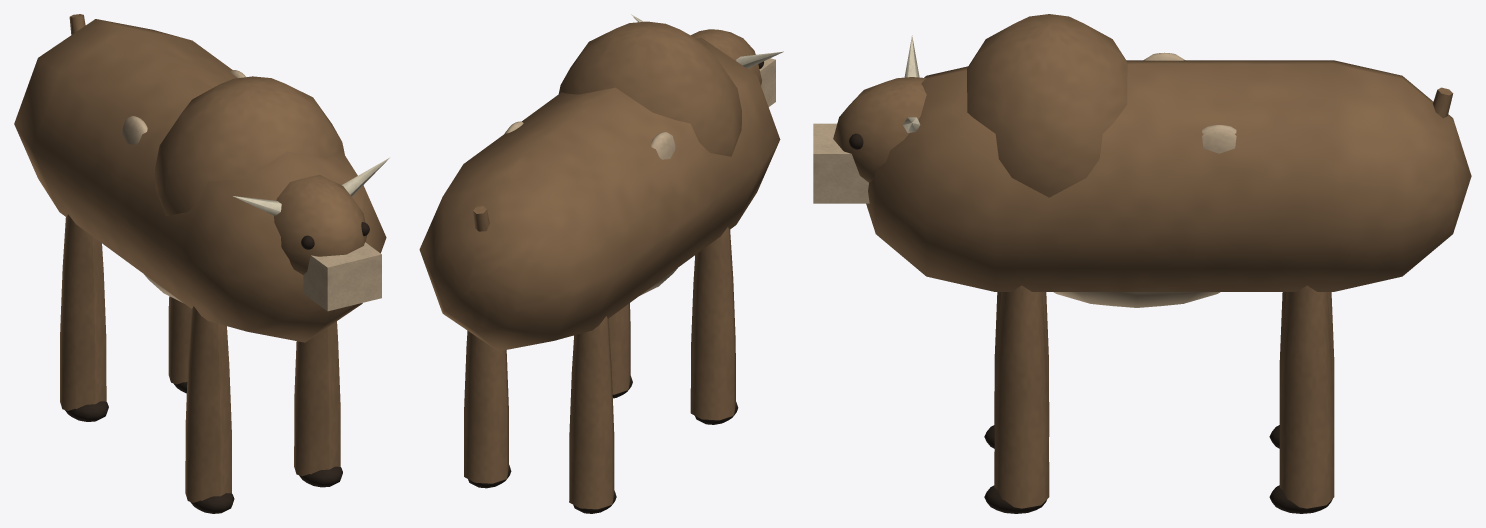
File: enemy_ox.glb
The picture shows the model from 3 angles, left to right: view 1: azimuth 30°, elevation 25°; view 2: azimuth 150°, elevation 25°; view 3: azimuth 270°, elevation 25°; orthographic projection. The views are drawn at different scales.
Parts seen in each view (by area): view 1: object 6, head, legL, armR, legR, armL; view 2: object 6, armR, legL, armL, head, legR; view 3: object 6, armL, legR, head, armR, legL.
Part boxes in pixels (x1,y1,x2,y2): object 6: (14,14,386,342); head: (233,157,389,311); legL: (185,306,234,513); armR: (60,214,108,421); legR: (294,321,342,487); armL: (168,296,191,393); object 6: (419,21,780,351); armR: (569,316,616,513); legL: (690,227,738,424); armL: (464,330,511,488); head: (631,14,783,106); legR: (608,303,632,398); object 6: (866,14,1471,307); armL: (1269,285,1334,513); legR: (984,285,1049,513); head: (813,35,926,203); armR: (1269,292,1334,448); legL: (984,292,1049,448).
Bounding box in the file's own units: 0.9 × 1.83 × 2.4.
1 material, 1 textured.
